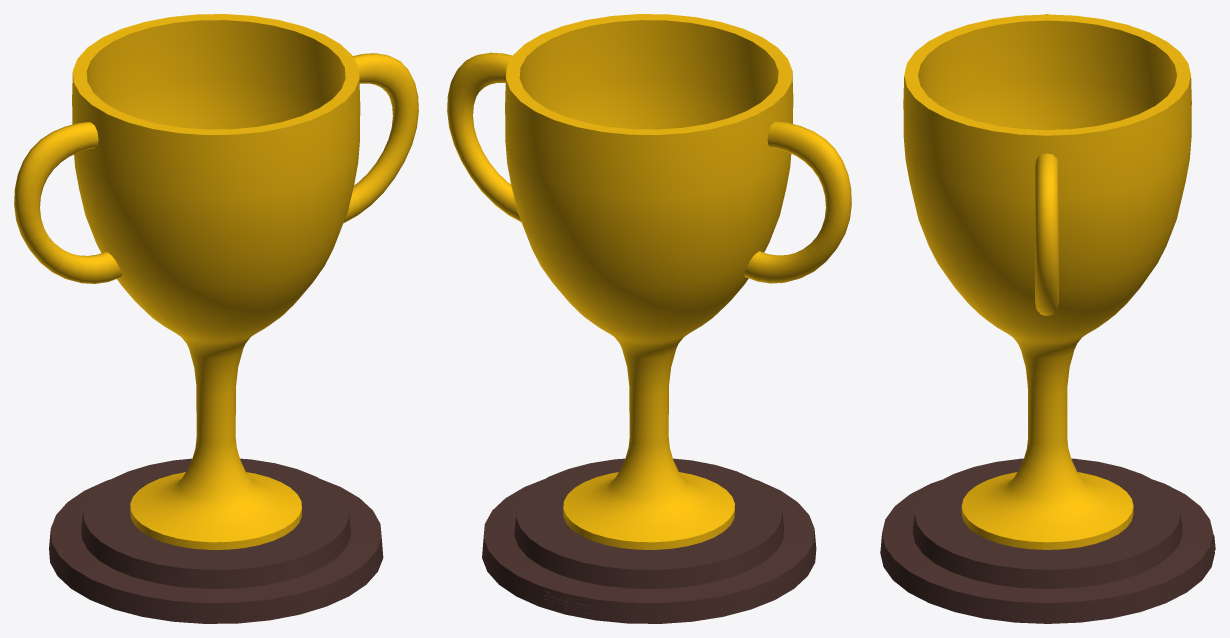
File: trophy.fbx
3 renders of one model, left to right at view 1: azimuth 30°, elevation 25°; view 2: azimuth 150°, elevation 25°; view 3: azimuth 270°, elevation 25°, orthographic.
Parts seen in each view (by area): view 1: Circle.280; view 2: Circle.280; view 3: Circle.280.
Part boxes in pixels (x1,y1,x2,y2): Circle.280: (14,14,418,623); Circle.280: (447,14,851,623); Circle.280: (880,14,1215,623).
Bounding box in the file's own units: 182 × 208 × 132.
1 material, 1 textured.
